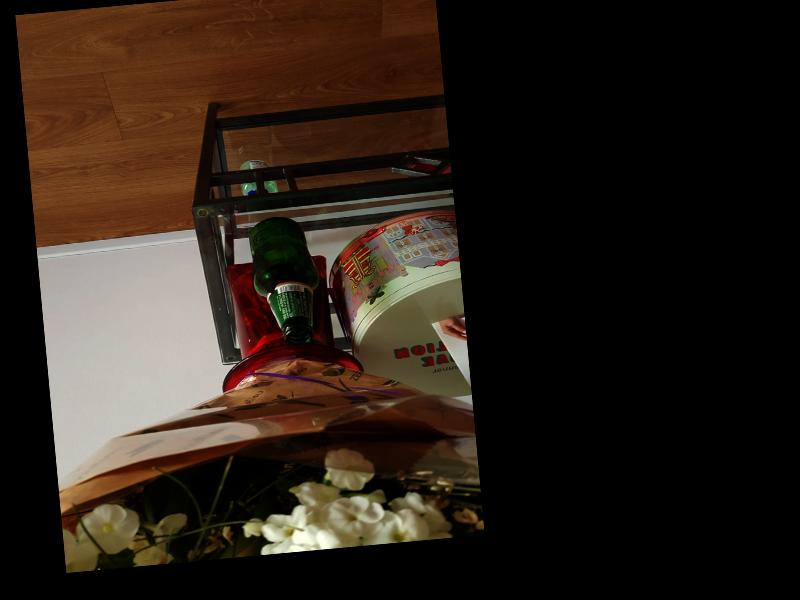Beer: (246, 212, 325, 347)
